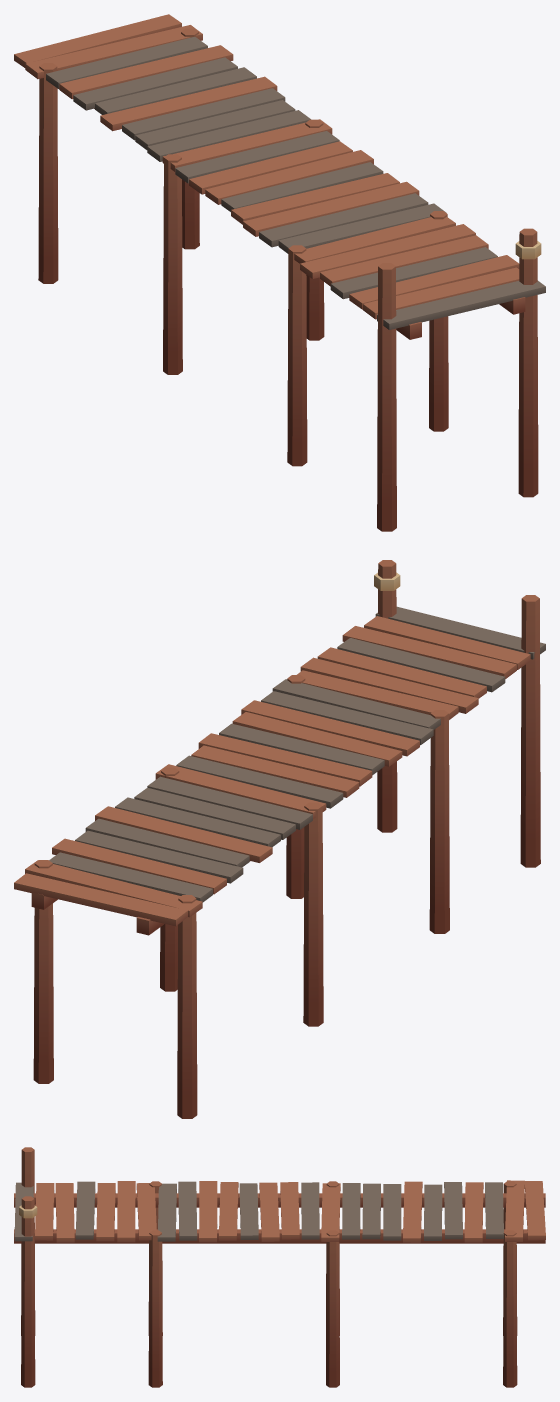
The model's file is dock.glb.
3 views of the same model, one above another, from view 1: azimuth 30°, elevation 25°; view 2: azimuth 150°, elevation 25°; view 3: azimuth 270°, elevation 25° (orthographic). The views are drawn at different scales.
Parts seen in each view (by area): view 1: dock; view 2: dock; view 3: dock.
Part boxes in pixels (x1,y1,x2,y2): dock: [14, 14, 545, 531]; dock: [14, 560, 545, 1118]; dock: [14, 1147, 545, 1387].
Size of the model in its own units: 1.93 by 2.9 by 7.51.
Materials: 1 (1 with a texture image).
